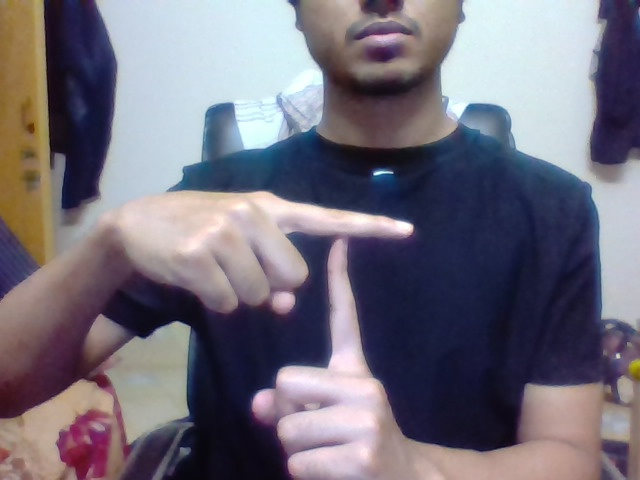T: (313, 194, 422, 363)
